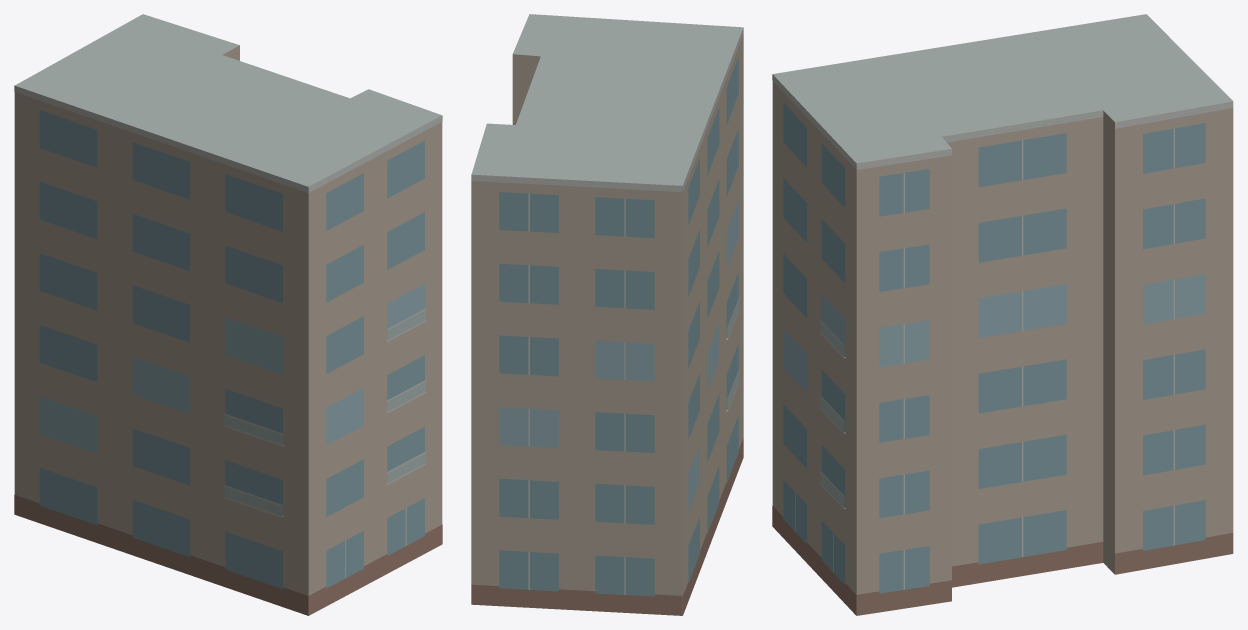
Rendered from survey-upis-32881921.glb.
The picture shows the model from 3 angles, left to right: view 1: azimuth 30°, elevation 25°; view 2: azimuth 150°, elevation 25°; view 3: azimuth 270°, elevation 25°; orthographic projection. The views are drawn at different scales.
Visible parts, largest first — view 1: survey-upis-32881921.tmp; view 2: survey-upis-32881921.tmp; view 3: survey-upis-32881921.tmp.
Part boxes in pixels (left/top/right/bottom): survey-upis-32881921.tmp: left=14, top=14, right=442, bottom=615; survey-upis-32881921.tmp: left=471, top=14, right=743, bottom=615; survey-upis-32881921.tmp: left=772, top=14, right=1233, bottom=615.
Bounding box in the file's own units: 11.84 × 16.7 × 15.43.
